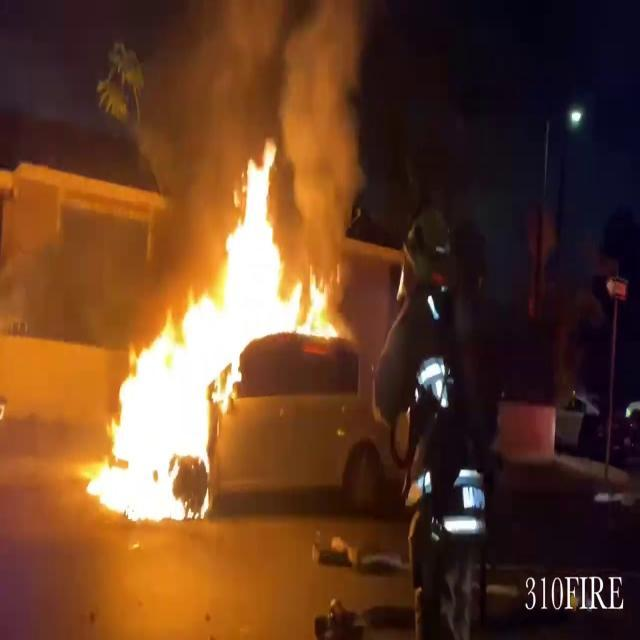Fire: (77, 132, 346, 534)
Smoke: (143, 0, 381, 195)
